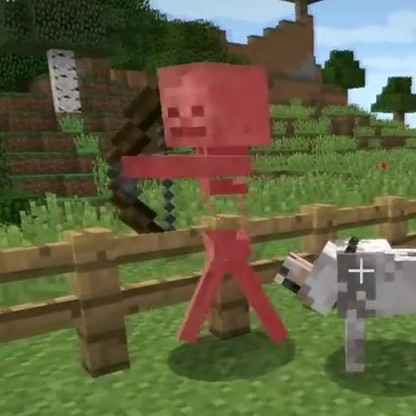skeleton: (146, 61, 277, 347)
